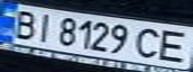1: (72, 17, 93, 51)
2: (90, 19, 112, 53)
8: (54, 15, 78, 47)
9: (109, 21, 133, 56)
B: (6, 7, 42, 39)
C: (133, 25, 169, 60)
E: (154, 27, 193, 63)
I: (30, 10, 57, 43)
